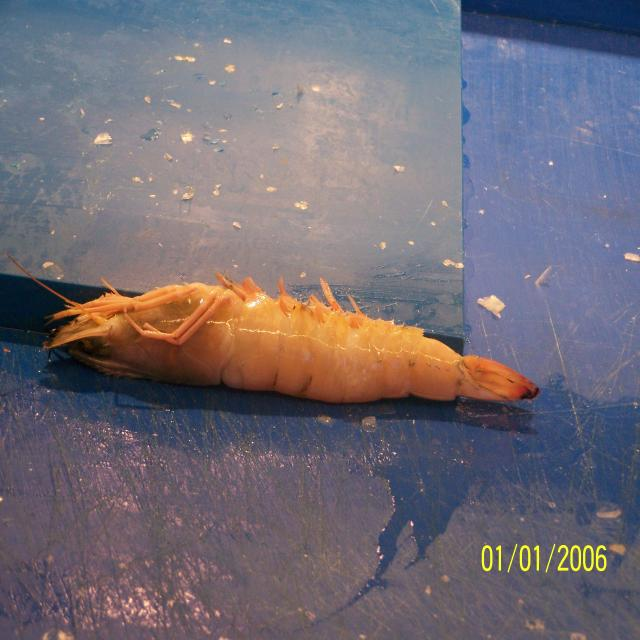Shrimp-karides-: (38, 276, 538, 406)
